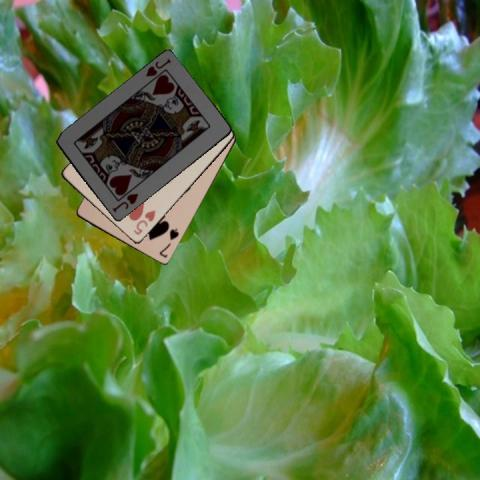5h: (130, 207, 157, 237)
7s: (156, 226, 181, 259)
Jh: (109, 190, 140, 214), (142, 56, 172, 79)
